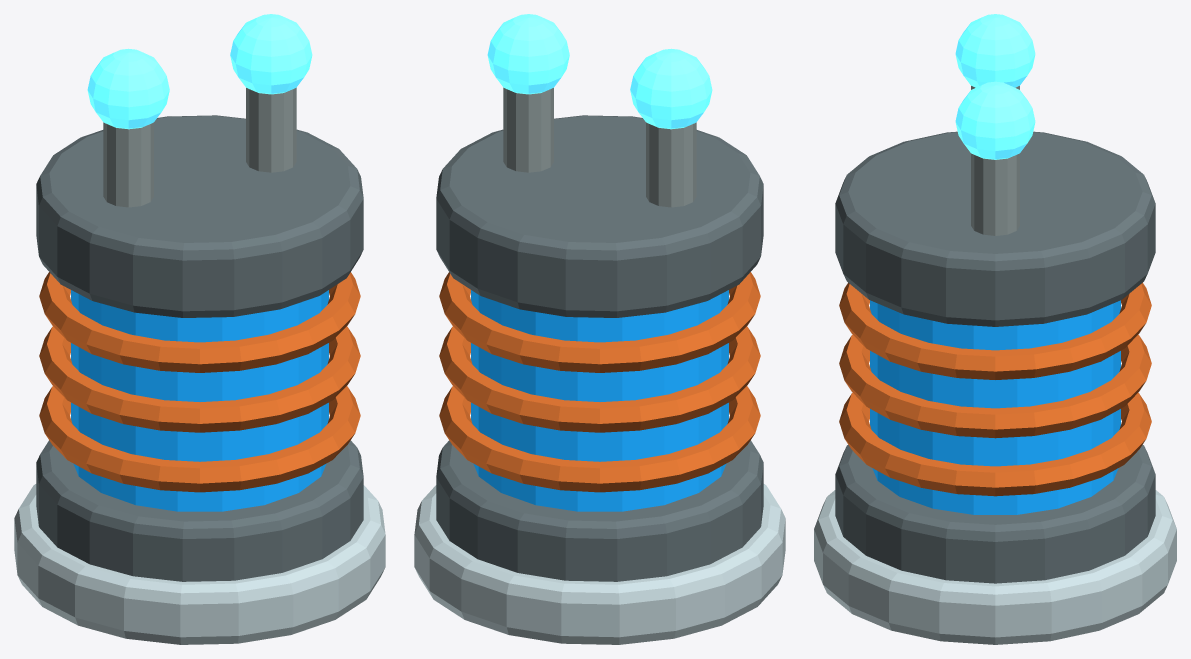
File: shock_charge.glb
3 renders of one model, left to right at view 1: azimuth 30°, elevation 25°; view 2: azimuth 150°, elevation 25°; view 3: azimuth 270°, elevation 25°, orthographic. The views are drawn at different scales.
Parts seen in each view (by area): view 1: shock_upper_casing, shock_base, shock_lower_casing, glass_core, copper_coil_2, copper_coil_1, copper_coil_3, pin_cap_1, pin_cap_-1, contact_pin_-1, contact_pin_1; view 2: shock_upper_casing, shock_base, shock_lower_casing, glass_core, copper_coil_2, copper_coil_1, copper_coil_3, pin_cap_1, pin_cap_-1, contact_pin_-1, contact_pin_1; view 3: shock_upper_casing, shock_base, shock_lower_casing, glass_core, copper_coil_1, copper_coil_2, copper_coil_3, pin_cap_1, pin_cap_-1, contact_pin_1.
Part boxes in pixels (x1=…): shock_upper_casing: x1=36, y1=115, x2=363, y2=317; shock_base: x1=14, y1=484, x2=385, y2=644; shock_lower_casing: x1=36, y1=440, x2=363, y2=581; glass_core: x1=71, y1=290, x2=328, y2=511; copper_coil_2: x1=39, y1=326, x2=360, y2=432; copper_coil_1: x1=39, y1=386, x2=360, y2=492; copper_coil_3: x1=39, y1=272, x2=360, y2=372; pin_cap_1: x1=230, y1=14, x2=312, y2=94; pin_cap_-1: x1=87, y1=48, x2=169, y2=129; contact_pin_-1: x1=103, y1=122, x2=153, y2=207; contact_pin_1: x1=246, y1=87, x2=296, y2=172; shock_upper_casing: x1=436, y1=115, x2=763, y2=317; shock_base: x1=414, y1=484, x2=785, y2=644; shock_lower_casing: x1=436, y1=440, x2=763, y2=581; glass_core: x1=471, y1=290, x2=728, y2=511; copper_coil_2: x1=439, y1=326, x2=760, y2=432; copper_coil_1: x1=439, y1=386, x2=760, y2=492; copper_coil_3: x1=439, y1=272, x2=760, y2=372; pin_cap_1: x1=487, y1=14, x2=569, y2=94; pin_cap_-1: x1=630, y1=48, x2=712, y2=129; contact_pin_-1: x1=646, y1=122, x2=696, y2=207; contact_pin_1: x1=503, y1=87, x2=553, y2=172; shock_upper_casing: x1=835, y1=131, x2=1155, y2=326; shock_base: x1=814, y1=490, x2=1176, y2=644; shock_lower_casing: x1=835, y1=445, x2=1155, y2=583; glass_core: x1=870, y1=300, x2=1120, y2=514; copper_coil_1: x1=839, y1=392, x2=1151, y2=496; copper_coil_2: x1=839, y1=334, x2=1151, y2=438; copper_coil_3: x1=839, y1=282, x2=1151, y2=379; pin_cap_1: x1=955, y1=81, x2=1035, y2=159; pin_cap_-1: x1=955, y1=14, x2=1035, y2=87; contact_pin_1: x1=971, y1=153, x2=1019, y2=235.
Bounding box in the file's own units: 0.68 × 1.08 × 0.68.
